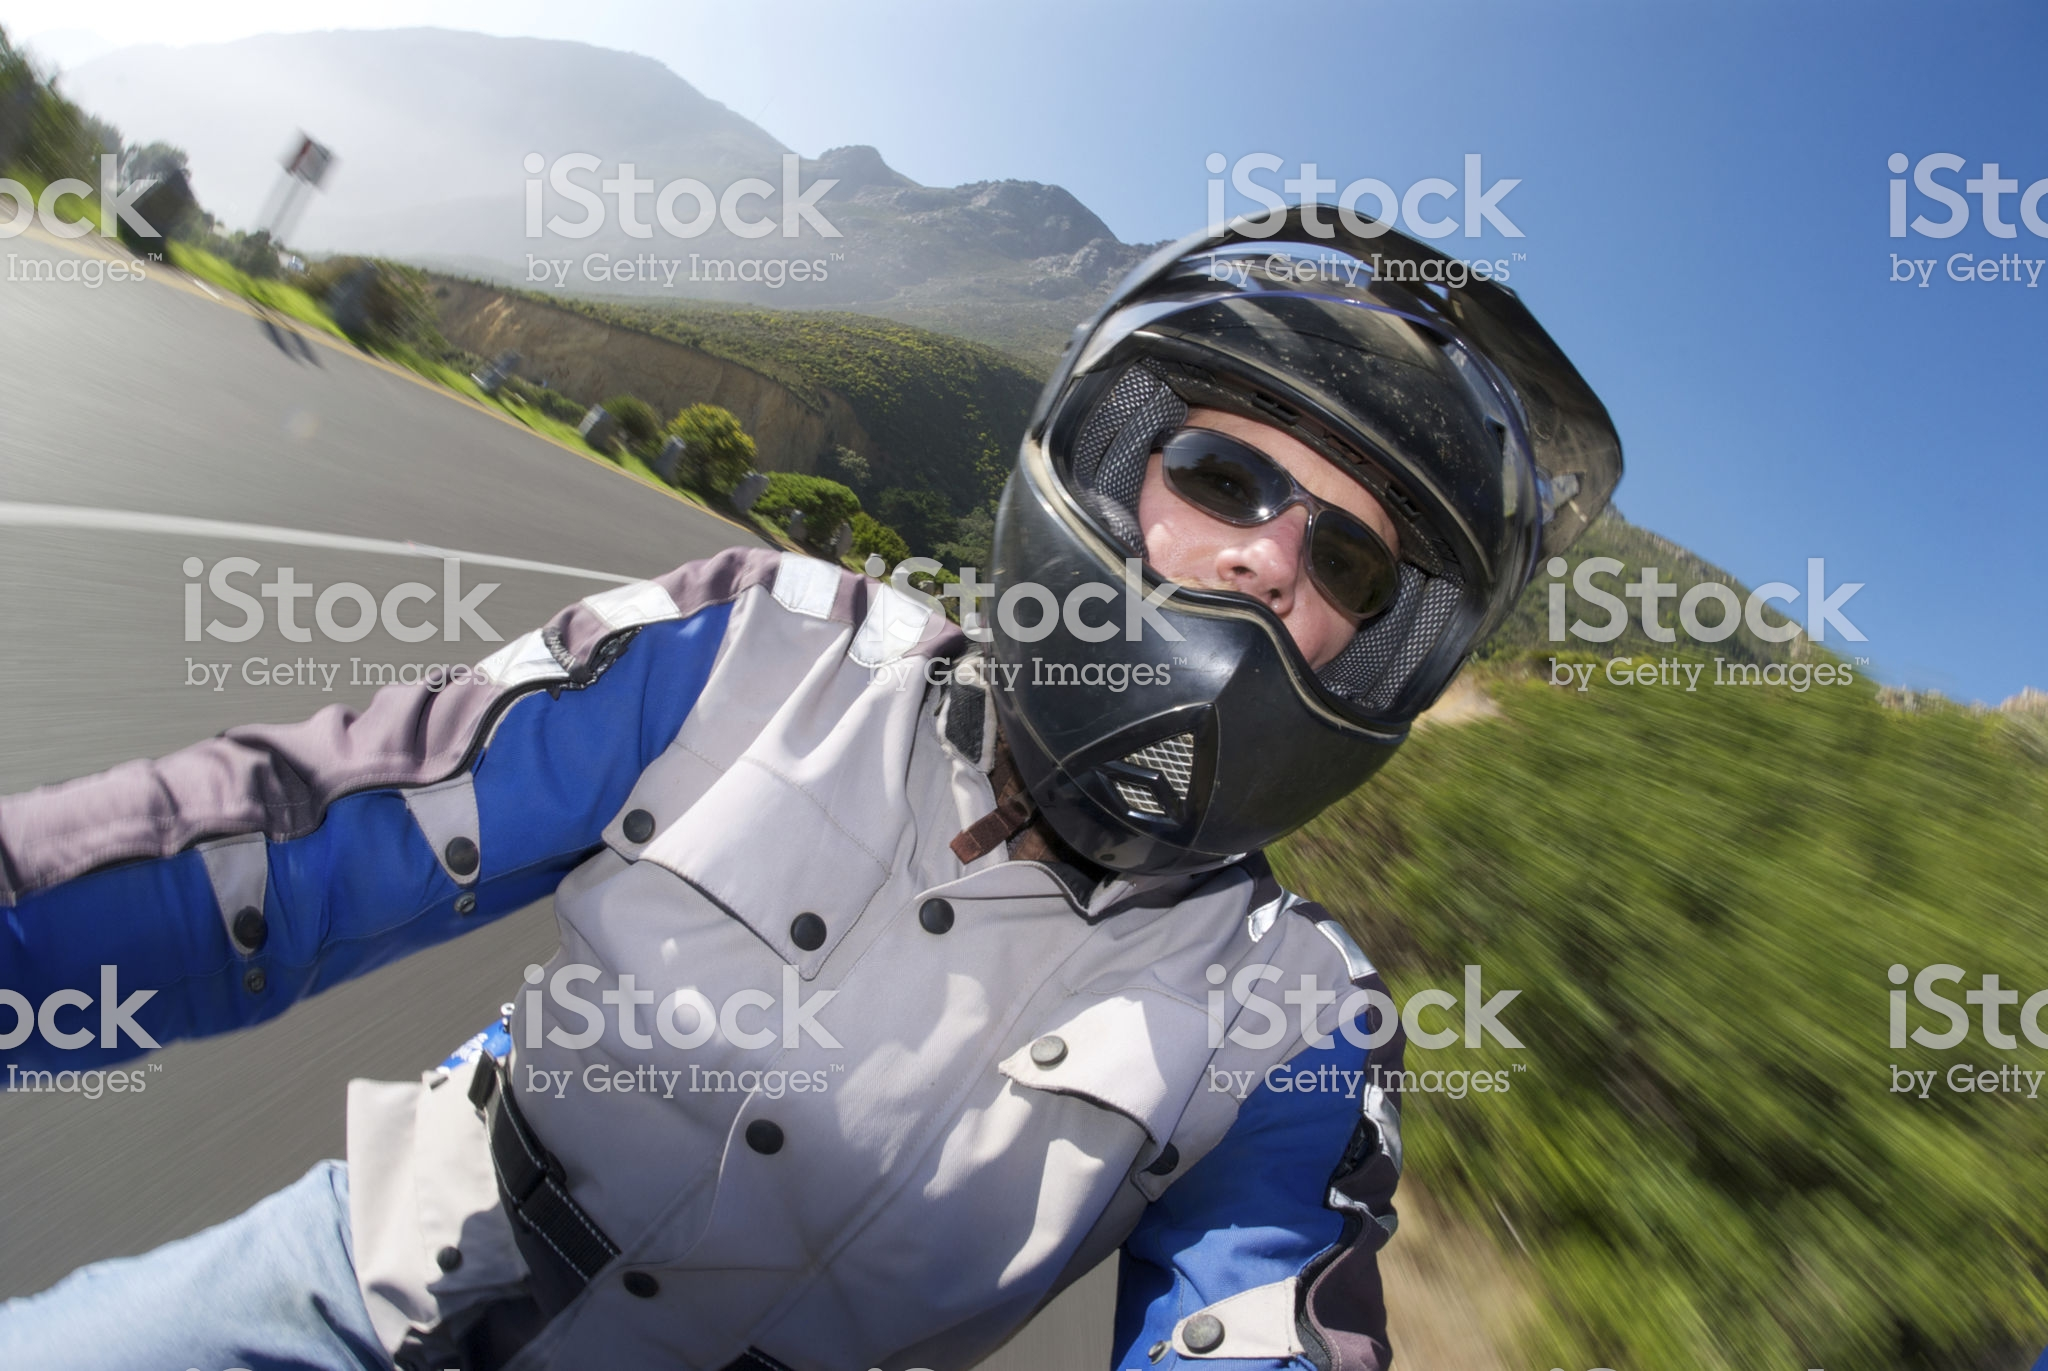helmet: (977, 165, 1577, 917)
